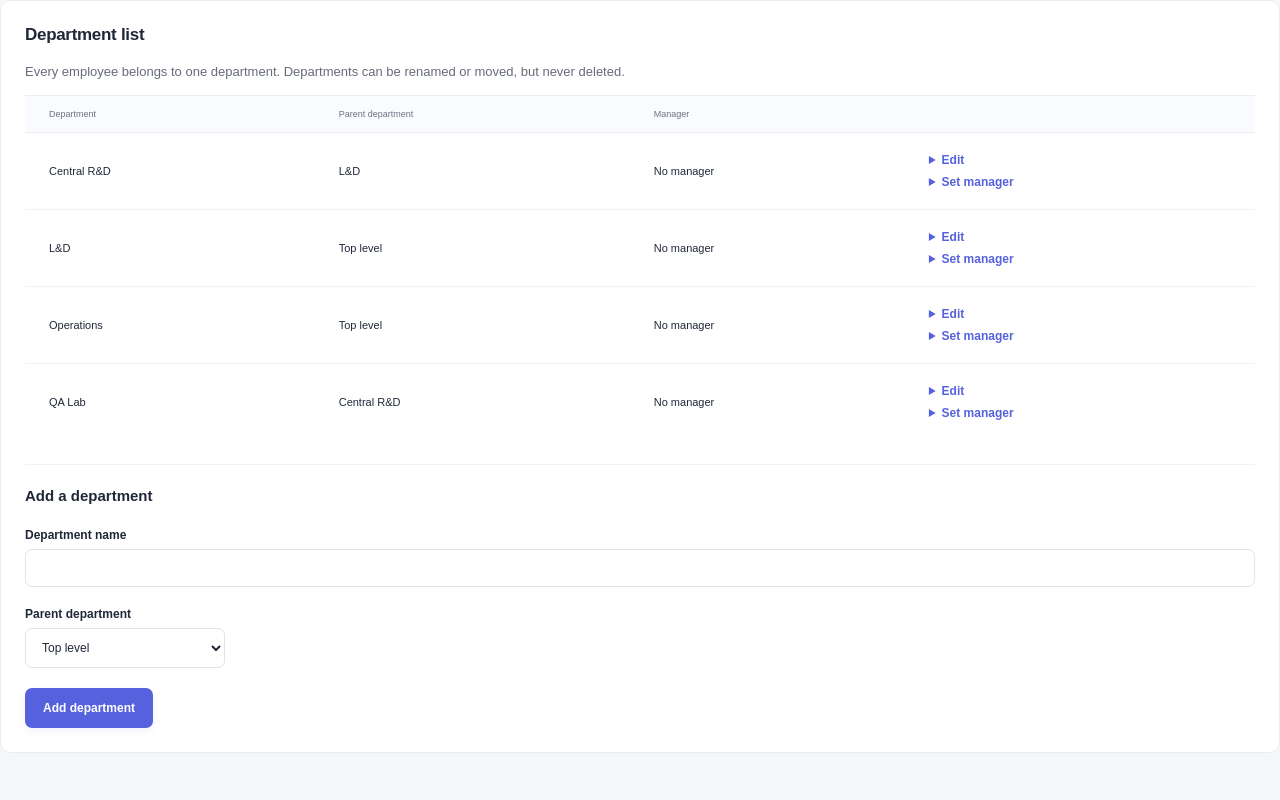
it: DepartmentsPanel › shows a refusal as an alert
This screenshot has width=1280, height=800.
Type "central r&d" into the field labelled "Department name" at (640, 568), box [25,549,1255,587]
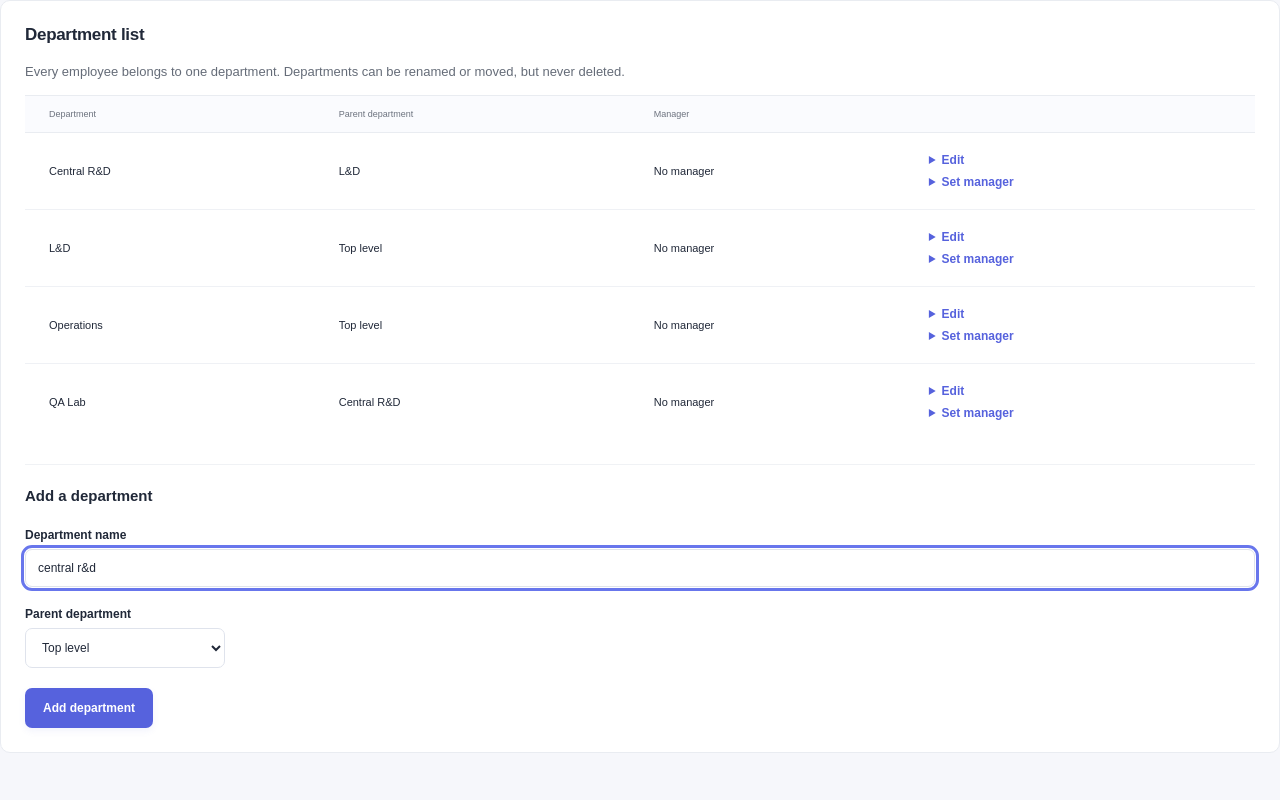
Click the button "Add department" at (89, 708), box [25,688,153,728]
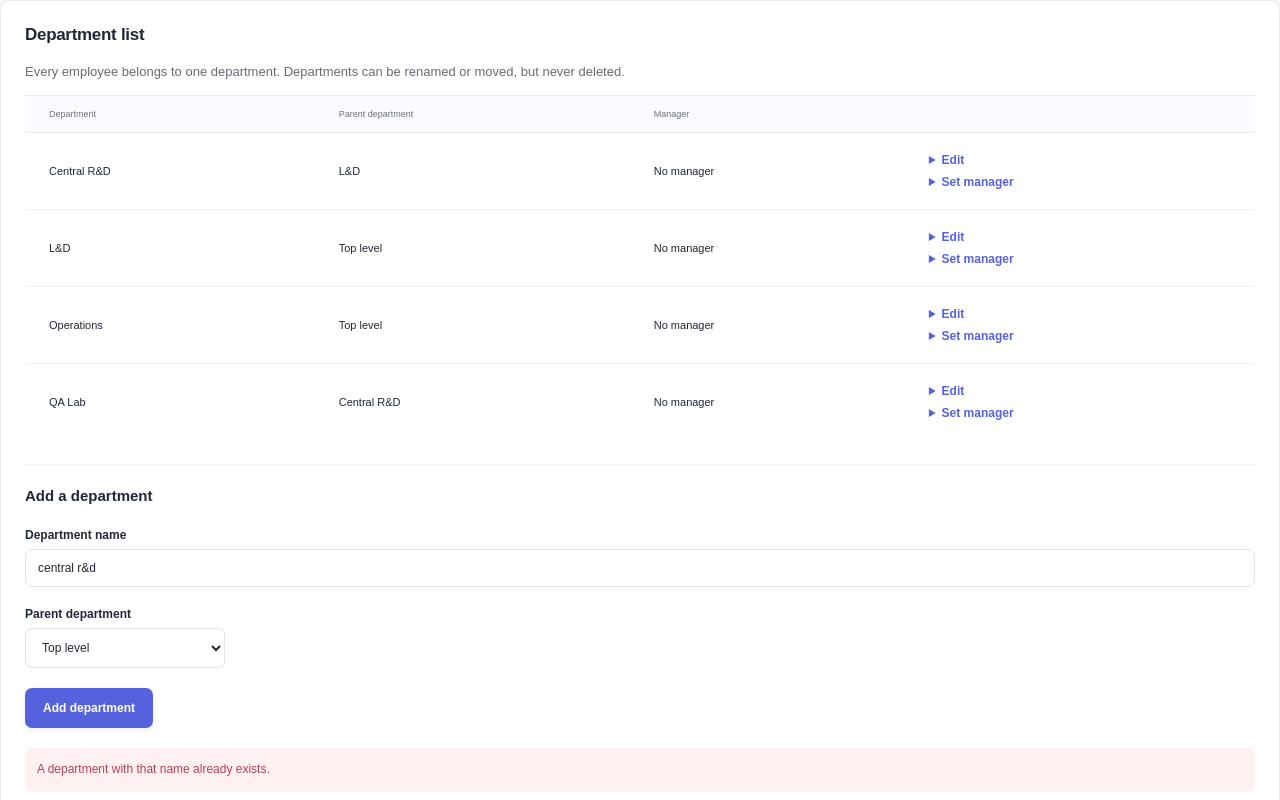
Expected: the message reads "A department with that name already exists.", [37,762,270,776]
